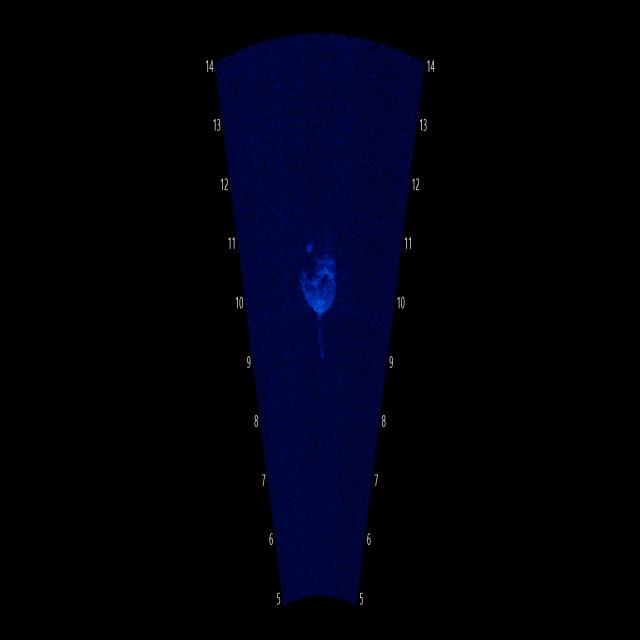circle: (298, 222, 346, 330)
